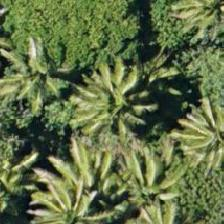coconut_tree: (62, 56, 152, 146), (0, 28, 72, 118), (166, 88, 223, 178), (39, 167, 129, 223), (162, 0, 223, 46)
